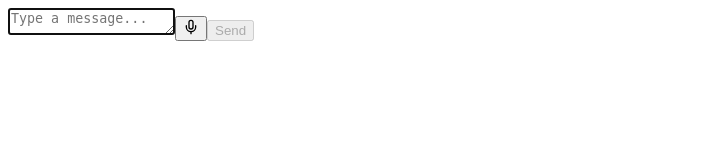
Test case: voice input failures are never silent › shows the localized worklet error as an alert (English default)
This screenshot has width=722, height=160.
Click the button named "Start voice input" at point(191, 28), box left=175, top=16, right=207, bottom=41
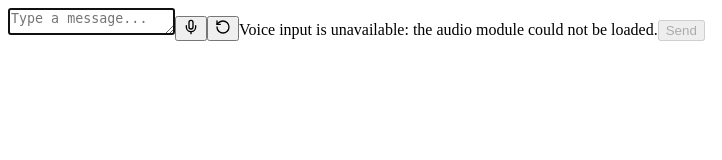
Result: the message reads "Voice input is unavailable: the audio module could not be loaded." at left=239, top=21, right=658, bottom=38
